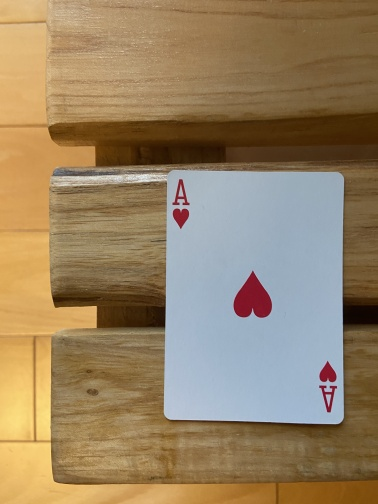ace: (162, 169, 346, 425)
